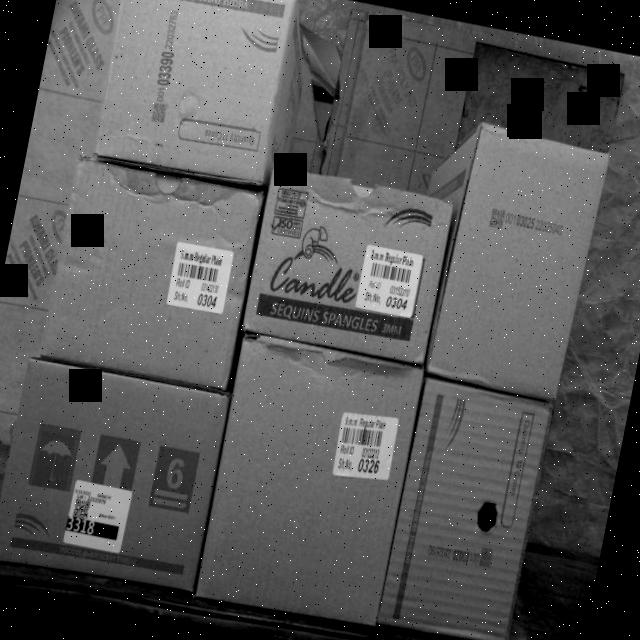box: (195, 336, 426, 628), (0, 357, 230, 599), (38, 155, 268, 393), (429, 123, 612, 400), (376, 379, 556, 640), (242, 164, 458, 366), (89, 0, 303, 187)
